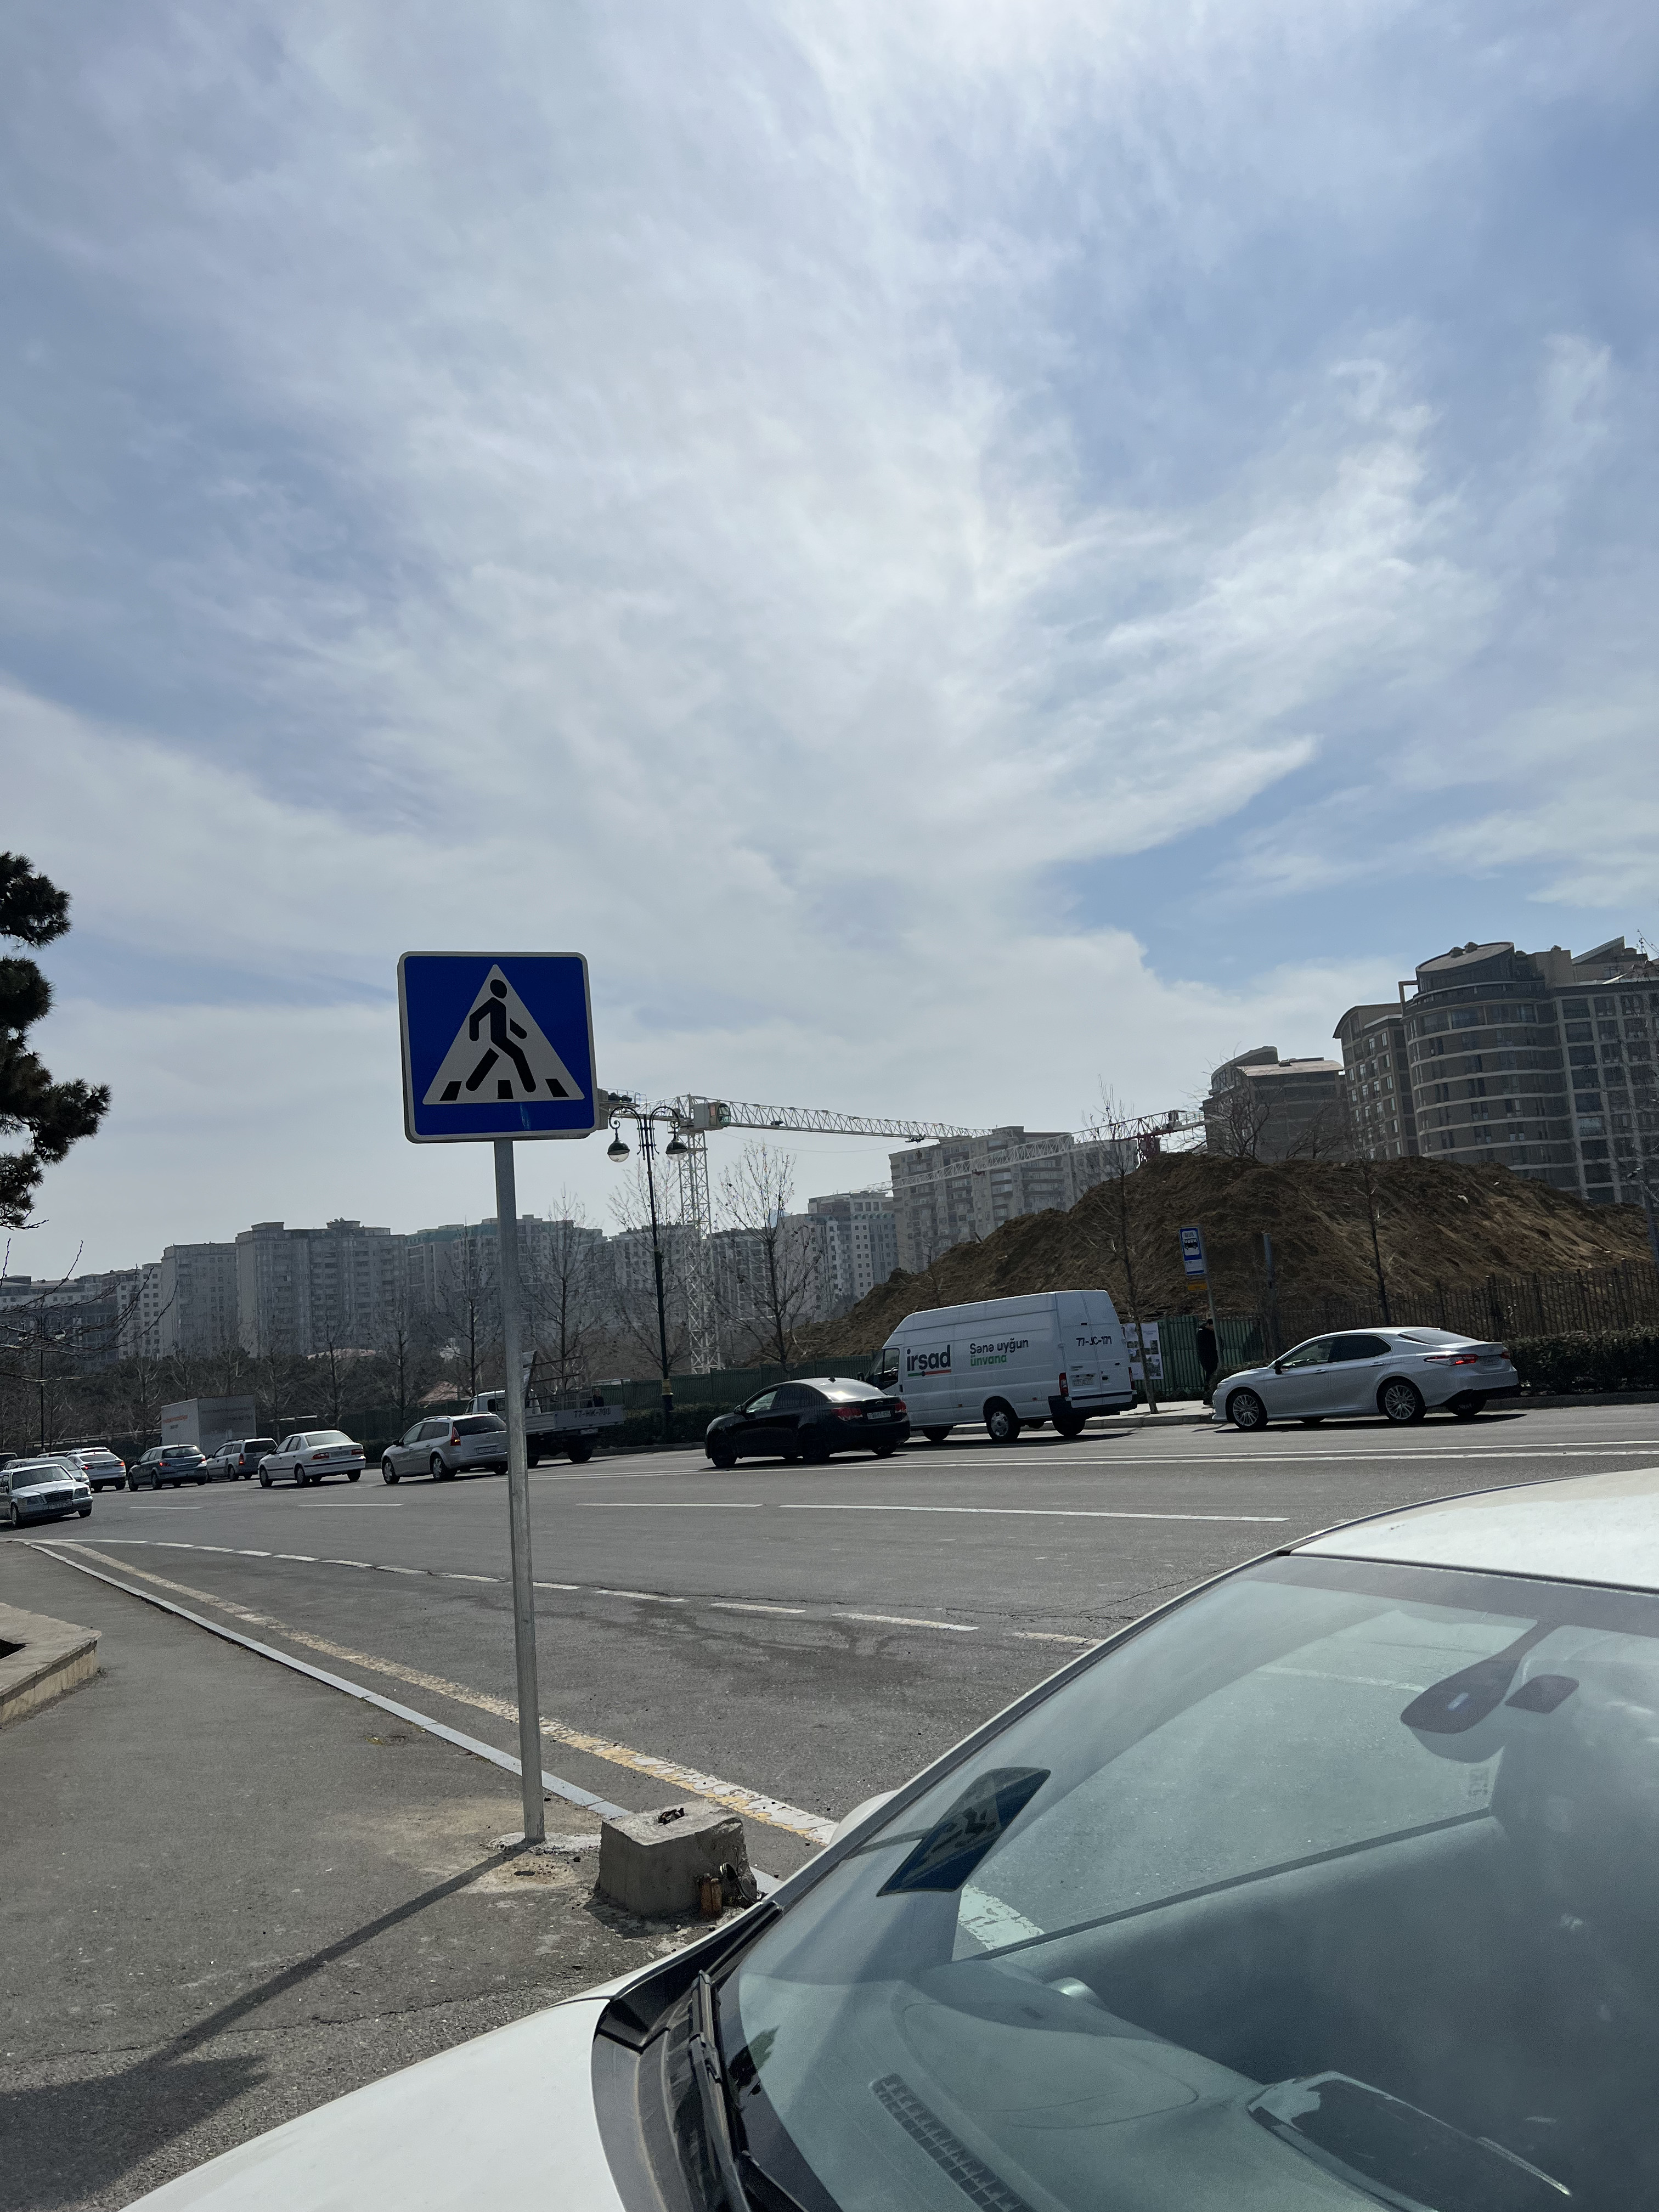Pedestrian Crossing: (397, 948, 598, 1137)
